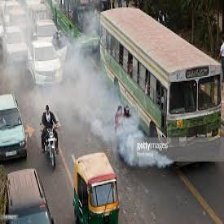smoke: (61, 76, 98, 113), (117, 129, 137, 159)
